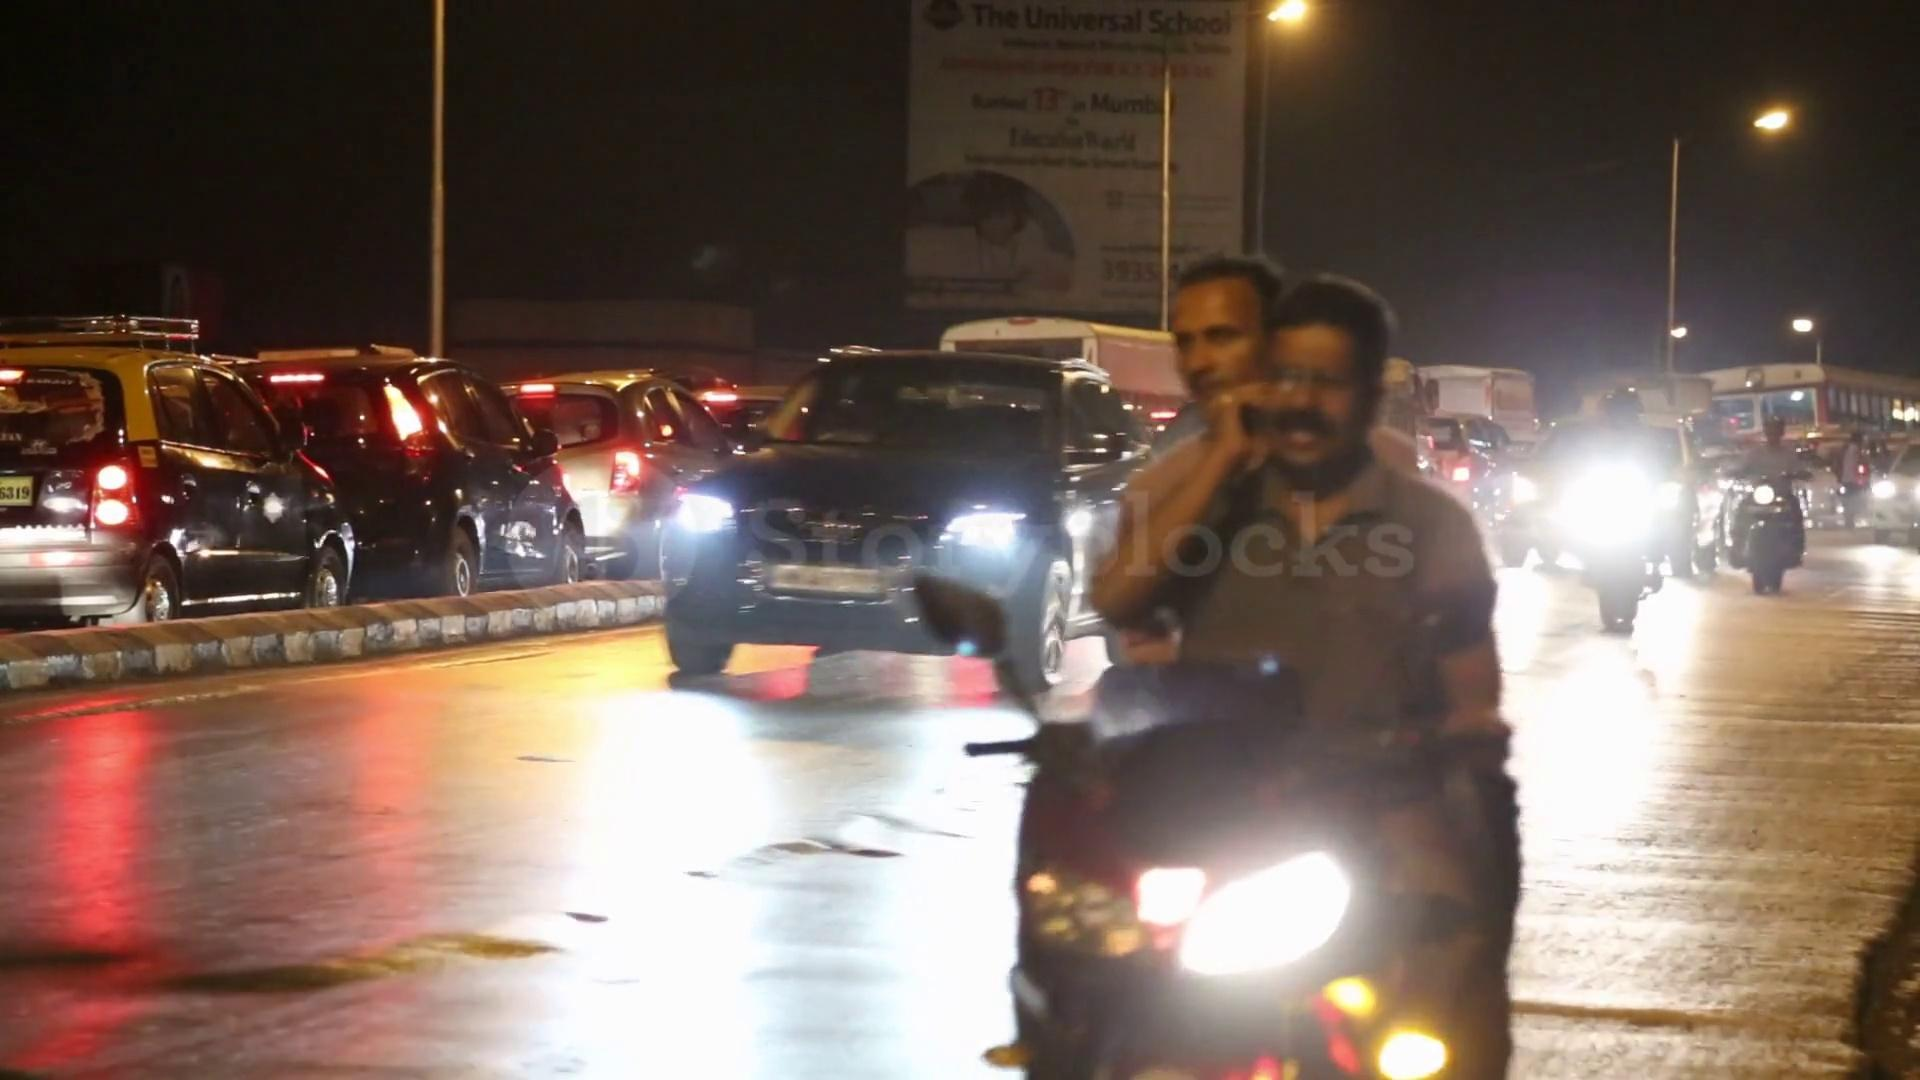rider: (1089, 256, 1489, 1079), (1730, 397, 1806, 589)
without_helmate: (1251, 281, 1409, 480)
